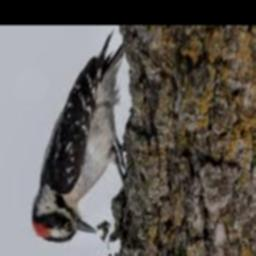Woodpecker: (30, 28, 126, 243)
